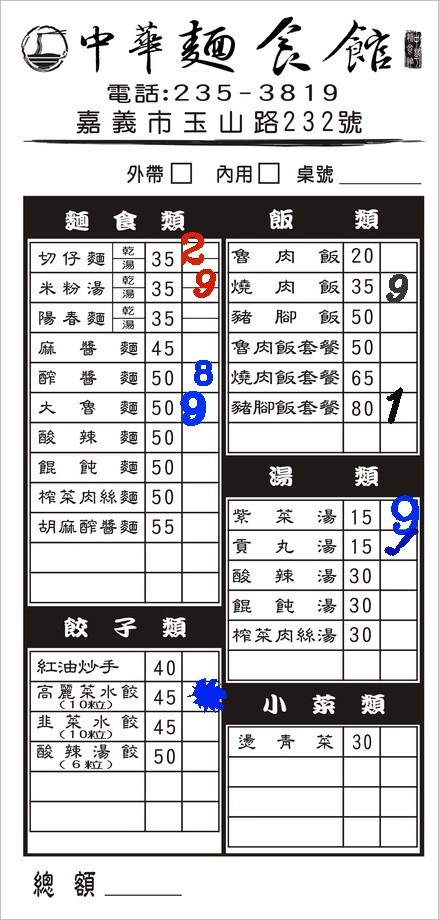marked_circle: (181, 681, 217, 710)
marked_number_1: (381, 393, 417, 422)
marked_number_2: (183, 244, 217, 257)
marked_number_8: (182, 362, 218, 391)
marked_number_9: (381, 500, 417, 529), (181, 392, 217, 421), (378, 271, 414, 300), (183, 273, 217, 286)
marked_tick: (380, 531, 416, 560)
